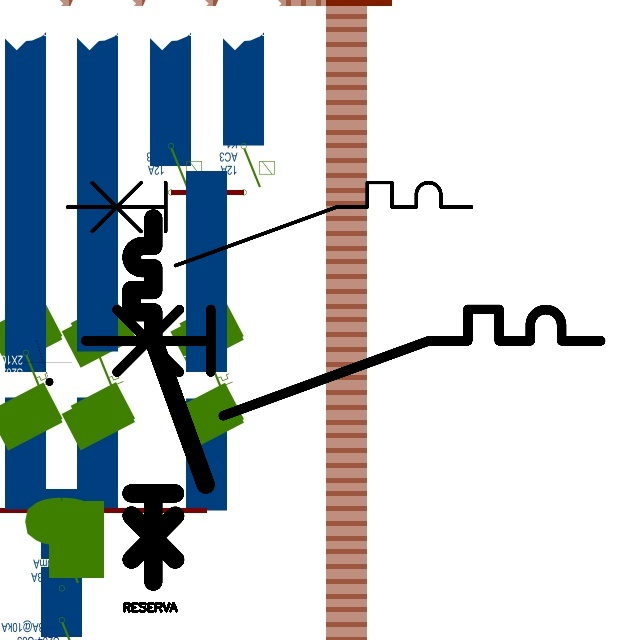interruptor_termomagnetico: (72, 296, 614, 428), (57, 172, 482, 276), (122, 209, 215, 591)
